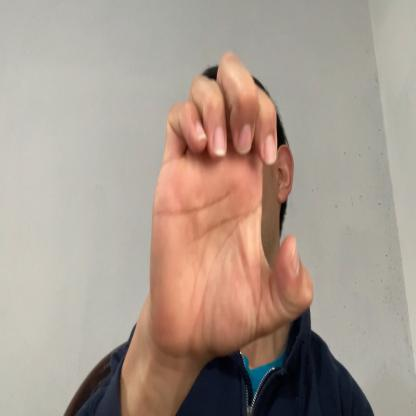E: (151, 51, 314, 352)
